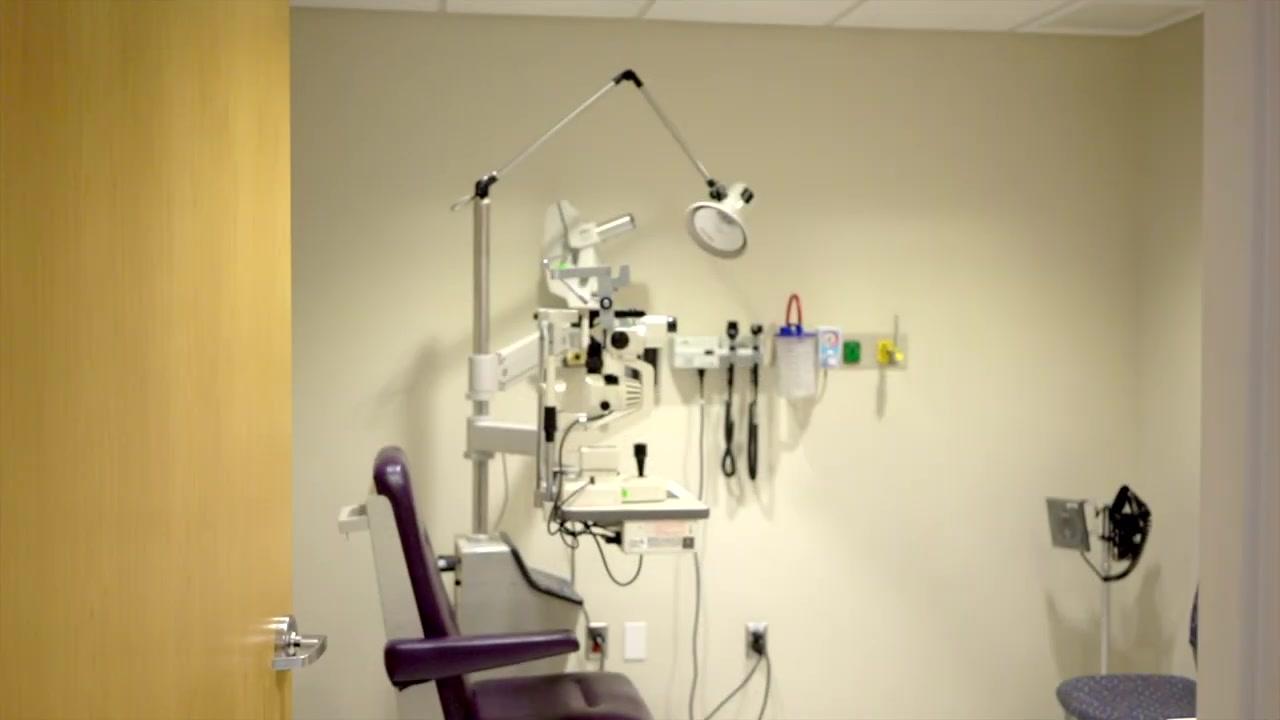chair: (341, 446, 657, 720), (1056, 578, 1201, 720)
door_handle: (275, 611, 329, 684)
iv_pole: (1093, 500, 1148, 662)
surgical_light: (682, 182, 755, 260)
